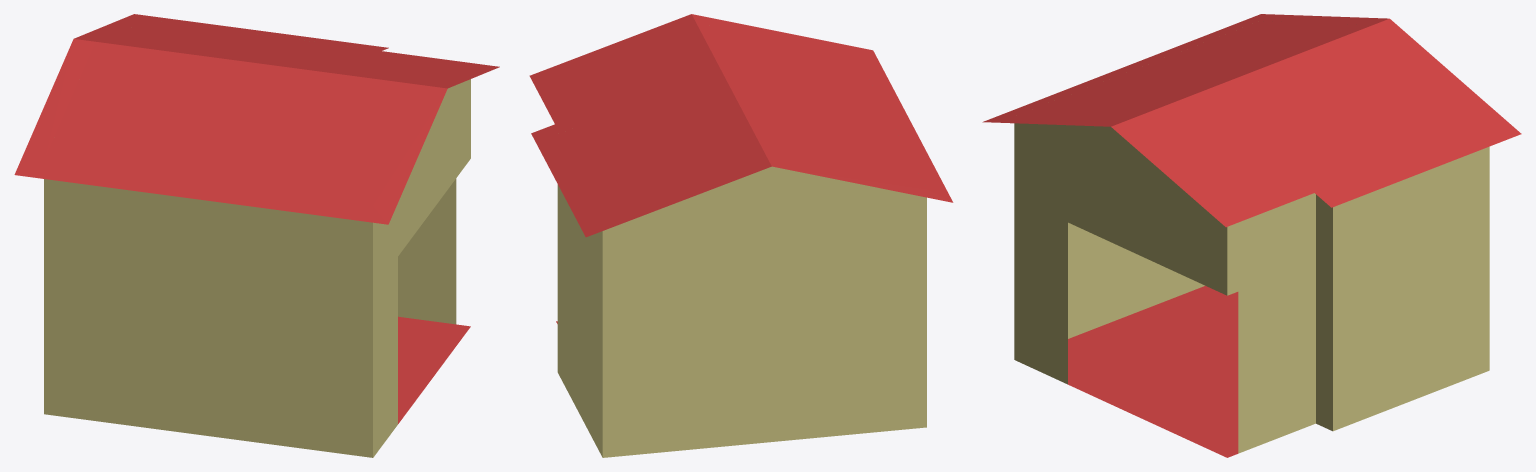
The picture shows the model from 3 angles, left to right: view 1: azimuth 30°, elevation 25°; view 2: azimuth 150°, elevation 25°; view 3: azimuth 270°, elevation 25°; orthographic projection. The views are drawn at different scales.
Size of the model in its own units: 17.2 by 17.8 by 10.62.
